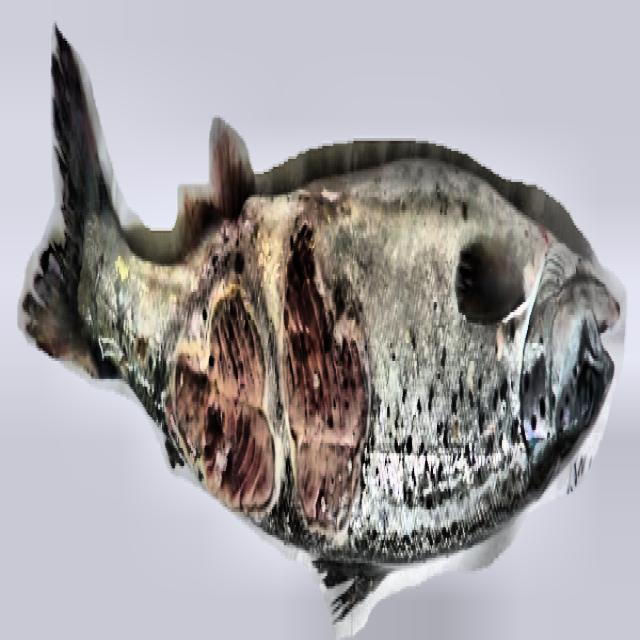mild_red: (249, 161, 563, 566)
wound: (284, 225, 367, 530), (175, 294, 274, 509)
